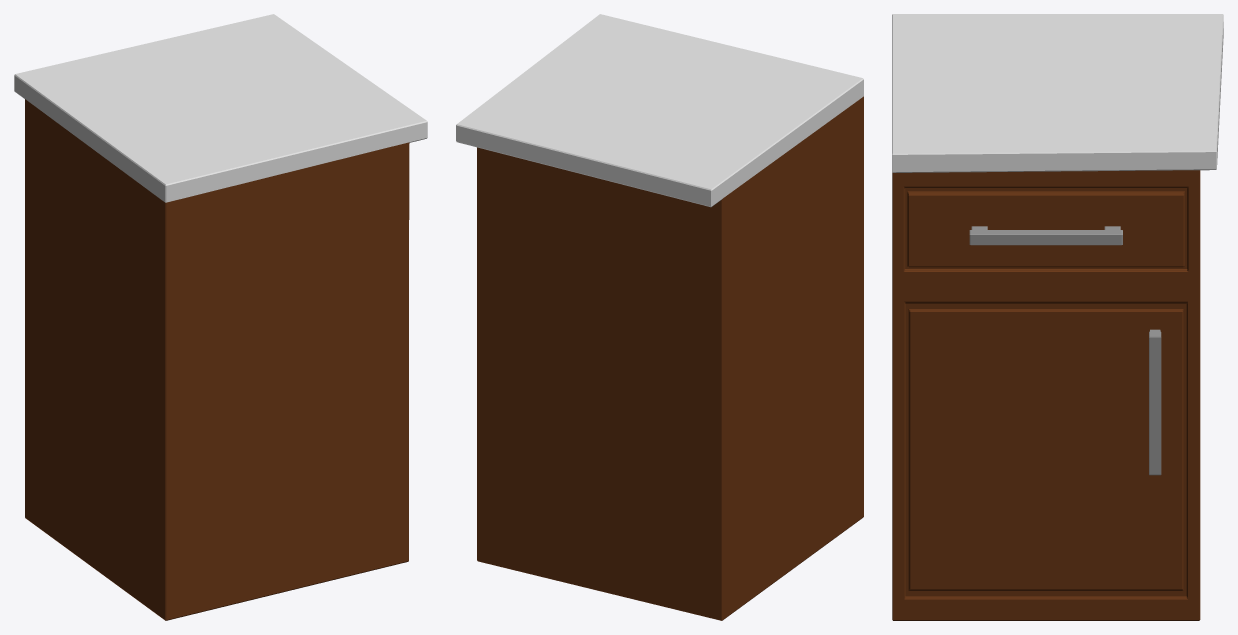
The model's file is CornerCabinet2.fbx.
3 views of the same model, side by side, from view 1: azimuth 30°, elevation 25°; view 2: azimuth 150°, elevation 25°; view 3: azimuth 270°, elevation 25° (orthographic). The views are drawn at different scales.
Parts seen in each view (by area): view 1: Fridge.006; view 2: Fridge.006; view 3: Fridge.006.
Part boxes in pixels (x1=…): Fridge.006: x1=14, y1=14, x2=427, y2=620; Fridge.006: x1=456, y1=14, x2=863, y2=620; Fridge.006: x1=892, y1=14, x2=1223, y2=620.
Bounding box in the file's own units: 151 × 242 × 151.
